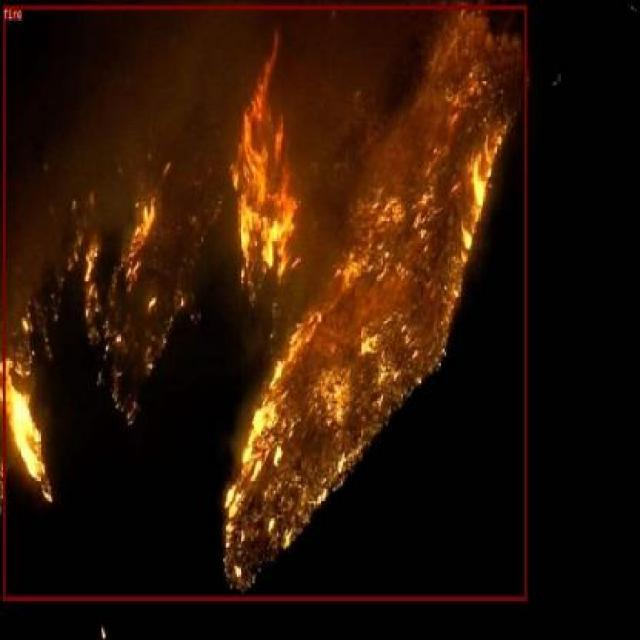Fire: (2, 4, 527, 600)
